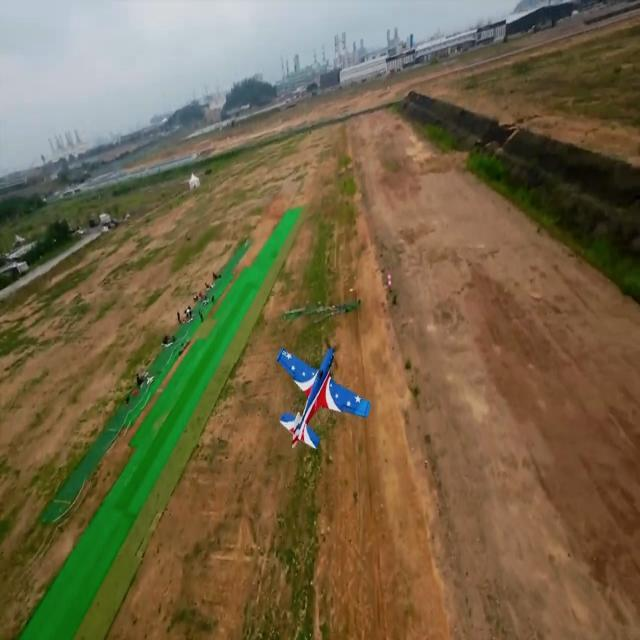iha: (297, 365, 340, 414)
